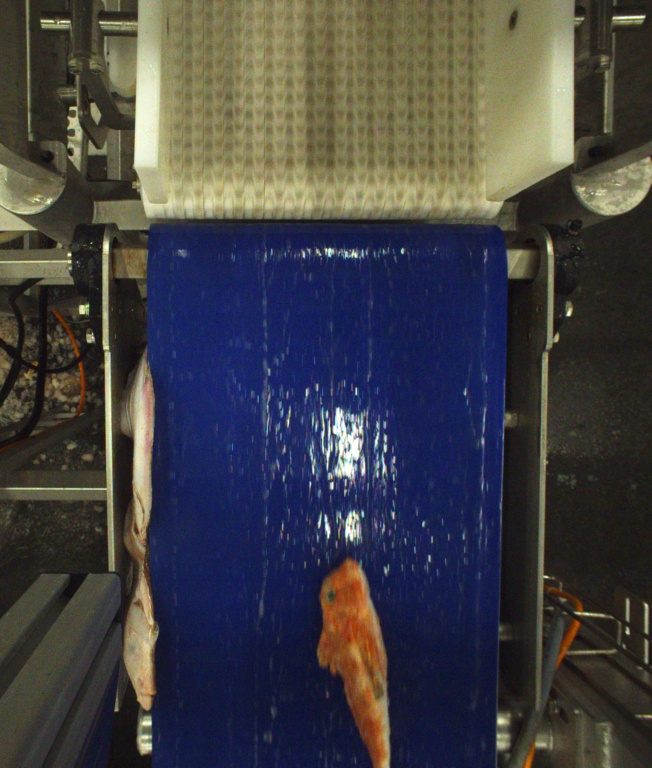GUU: (321, 558, 391, 768)
